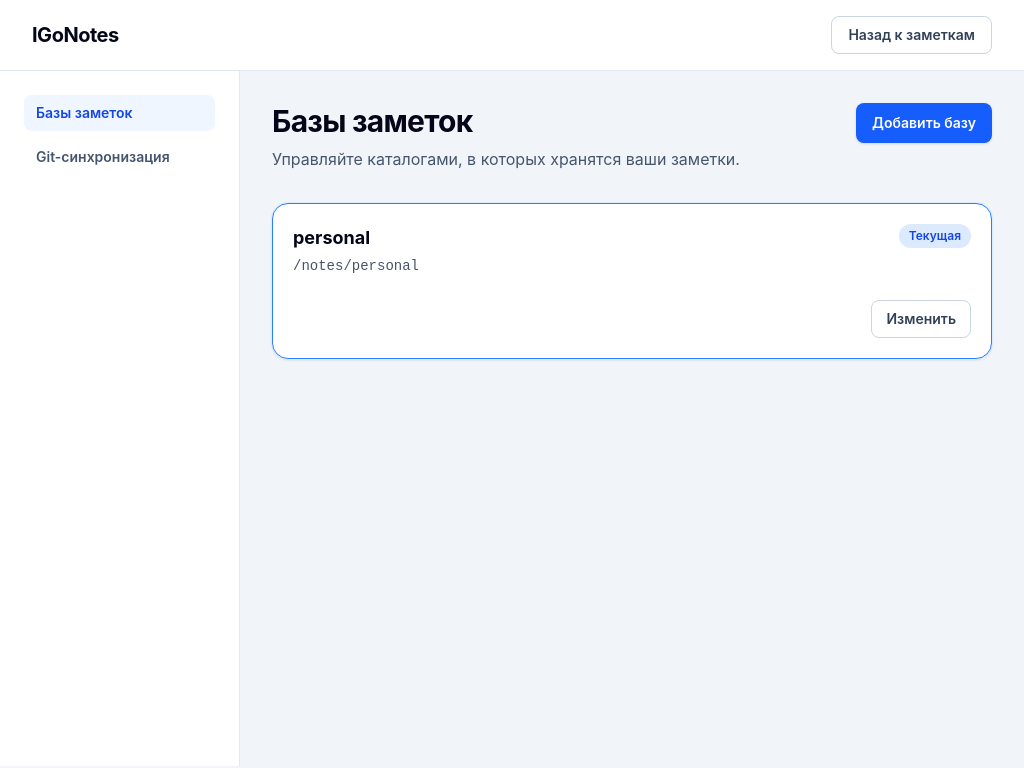
Test: SettingsWorkspace › adds a base and returns to the list with the saved config
Click the button "Добавить базу" at (924, 123), box [856,103,992,143]
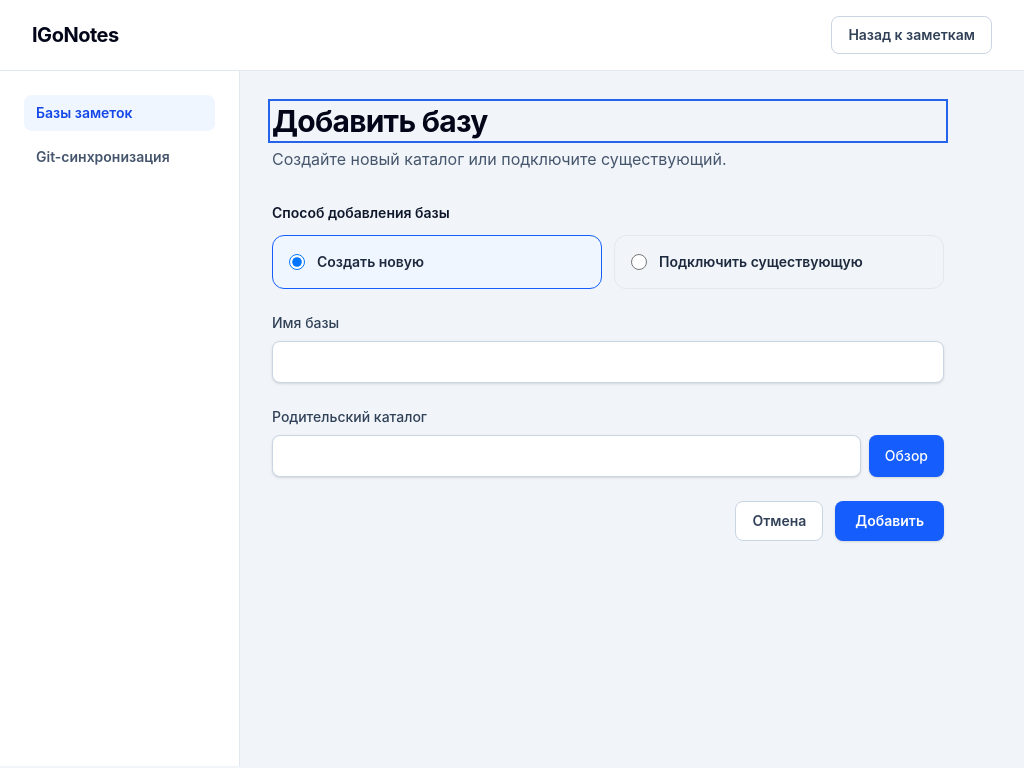
Expected: the radio button labelled "Создать новую" is checked, [289,254,305,270]
Expected: the radio button labelled "Подключить существующую" is not checked, [631,254,647,270]
Type "work" into the field labelled "Имя базы" at (608, 362), box [272,341,944,383]
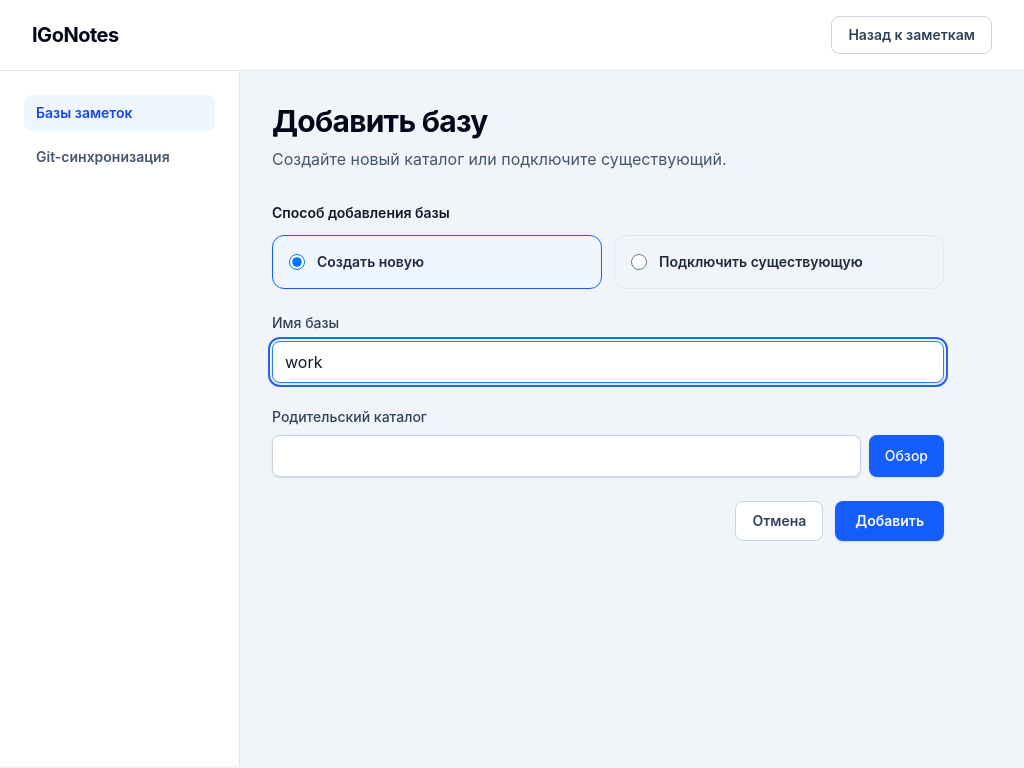
Type "/notes" into the field labelled "Родительский каталог" at (566, 456), box [272,435,861,477]
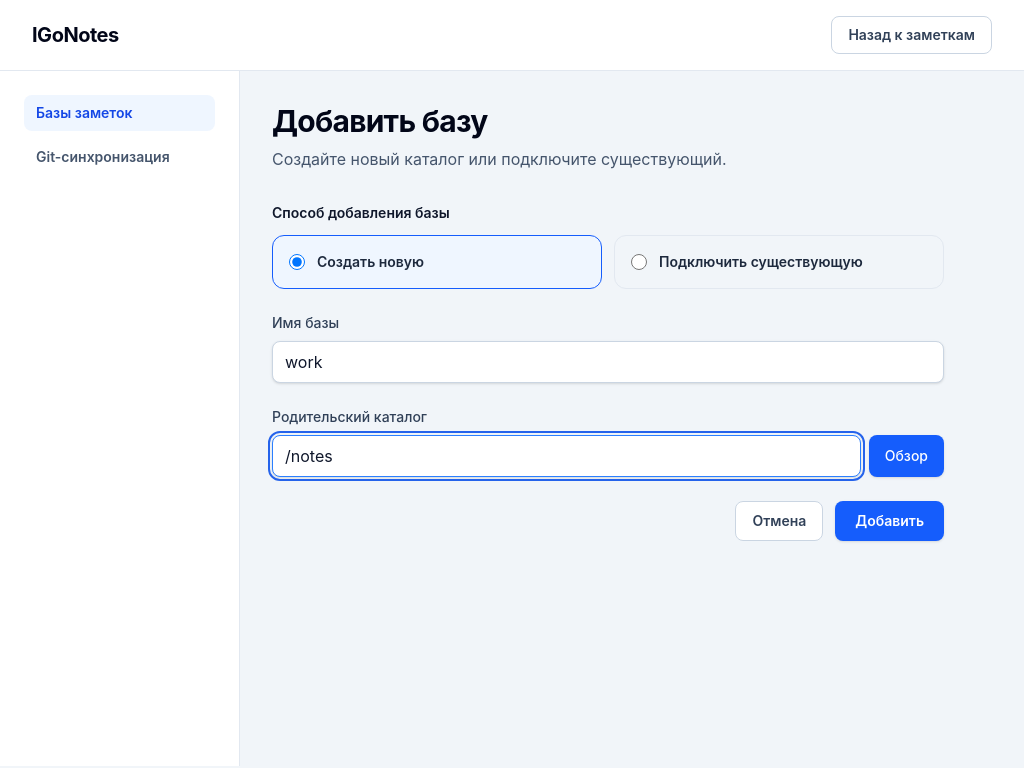
Click the button "Добавить" at (890, 521), box [835,501,944,541]
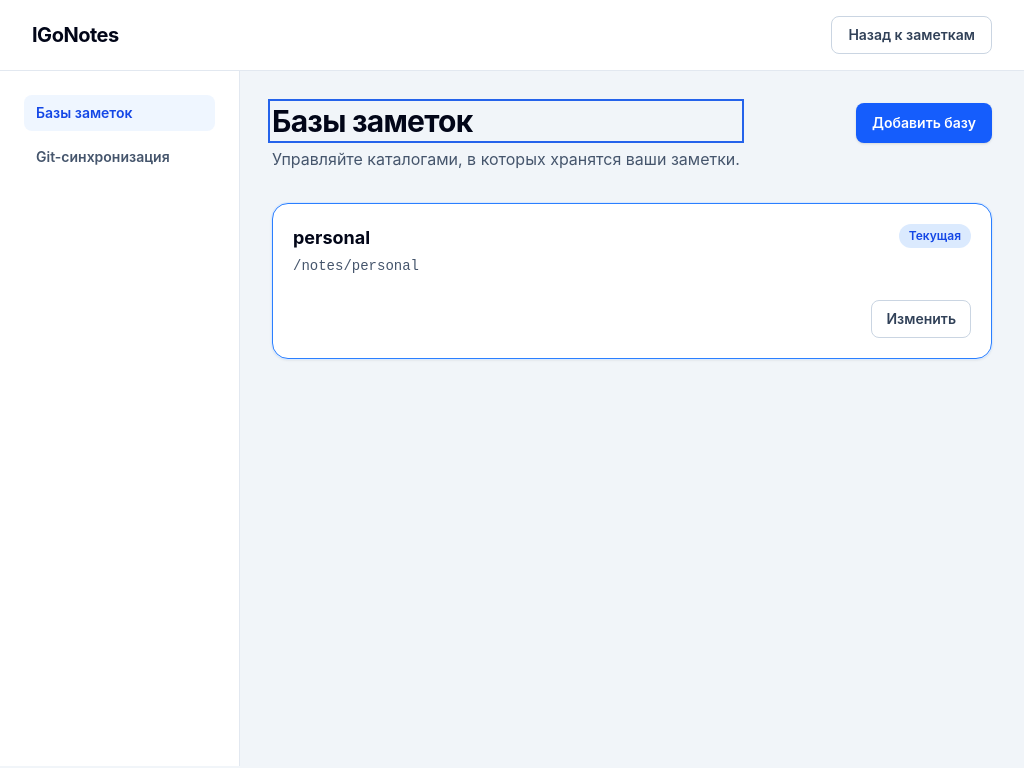
Expected: the heading "Базы заметок" is shown, [272,103,472,139]
Expected: the label "Создать новую" is gone
